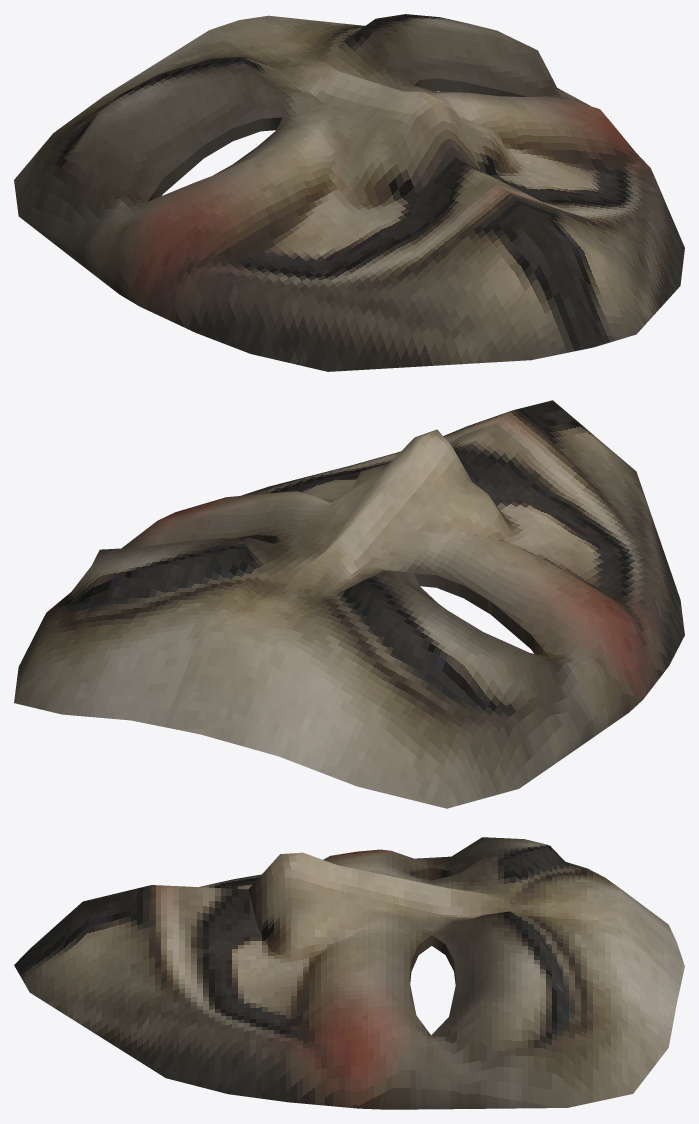
Rendered from incognito_mask_mp_1.glb.
3 renders of one model, top to bottom at view 1: azimuth 30°, elevation 25°; view 2: azimuth 150°, elevation 25°; view 3: azimuth 270°, elevation 25°, orthographic. The views are drawn at different scales.
Visible parts, largest first — view 1: incognito_mask_mp_1; view 2: incognito_mask_mp_1; view 3: incognito_mask_mp_1.
Part boxes in pixels (bbox=[...]): incognito_mask_mp_1: bbox=[14, 14, 684, 371]; incognito_mask_mp_1: bbox=[14, 400, 684, 808]; incognito_mask_mp_1: bbox=[14, 837, 684, 1109].
Bounding box in the file's own units: 0.2212 × 0.074 × 0.2957.
1 material, 1 textured.
